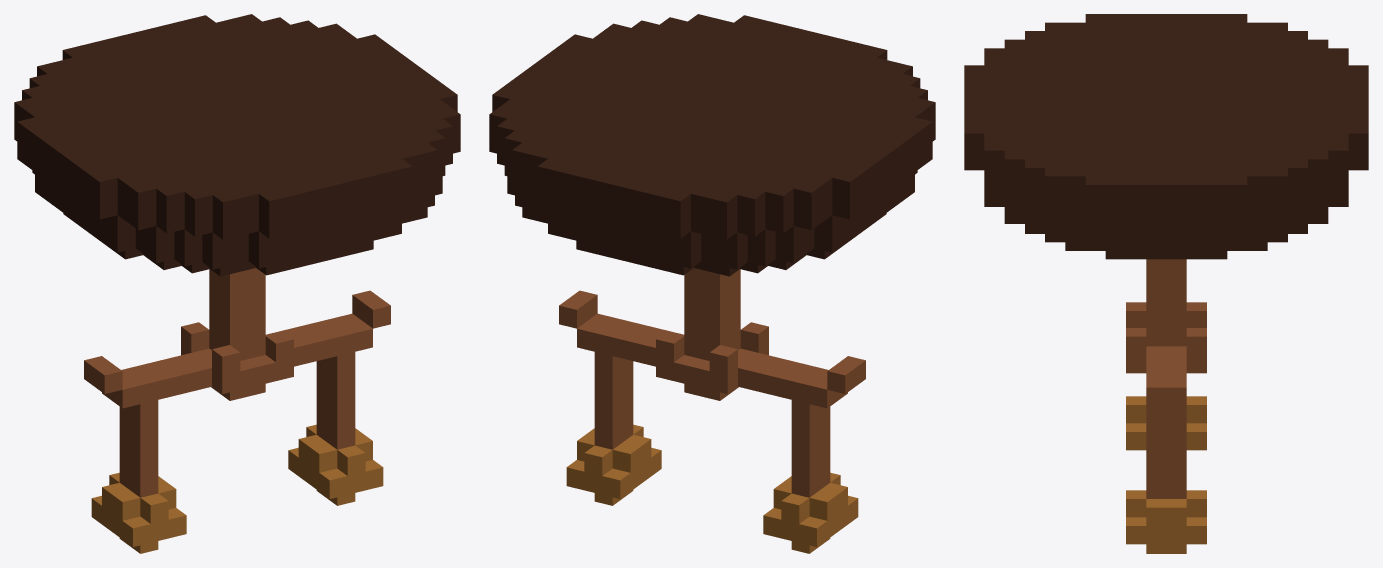
Rendered from chandelier01.obj.
3 renders of one model, left to right at view 1: azimuth 30°, elevation 25°; view 2: azimuth 150°, elevation 25°; view 3: azimuth 270°, elevation 25°, orthographic. The views are drawn at different scales.
Size of the model in its own units: 20 by 22 by 20.
1 material, 1 textured.
